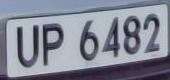2: (140, 9, 163, 58)
4: (100, 12, 123, 65)
6: (77, 17, 102, 65)
8: (120, 11, 144, 61)
P: (39, 19, 66, 70)
U: (11, 20, 42, 72)
